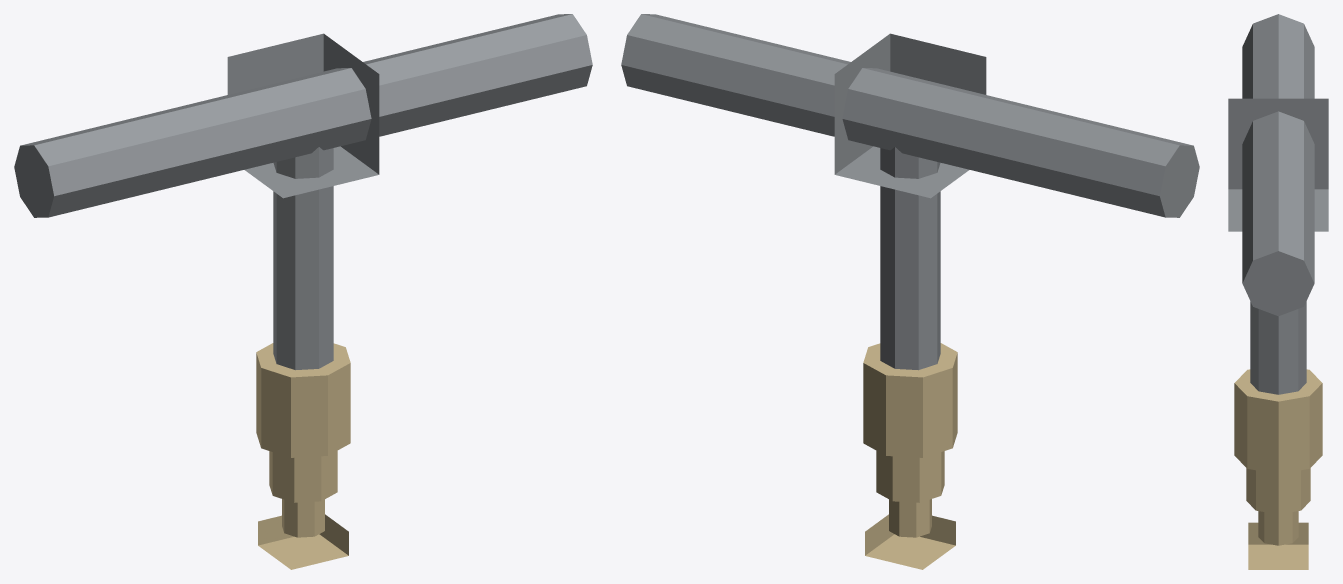
Rendered from fogger (1).glb.
3 renders of one model, left to right at view 1: azimuth 30°, elevation 25°; view 2: azimuth 150°, elevation 25°; view 3: azimuth 270°, elevation 25°, orthographic. The views are drawn at different scales.
Parts seen in each view (by area): view 1: fogger; view 2: fogger; view 3: fogger.
Part boxes in pixels (x1=…): fogger: x1=14, y1=14, x2=592, y2=569; fogger: x1=621, y1=14, x2=1199, y2=569; fogger: x1=1228, y1=14, x2=1328, y2=569.
Size of the model in its own units: 0.28 by 0.241 by 0.05.
